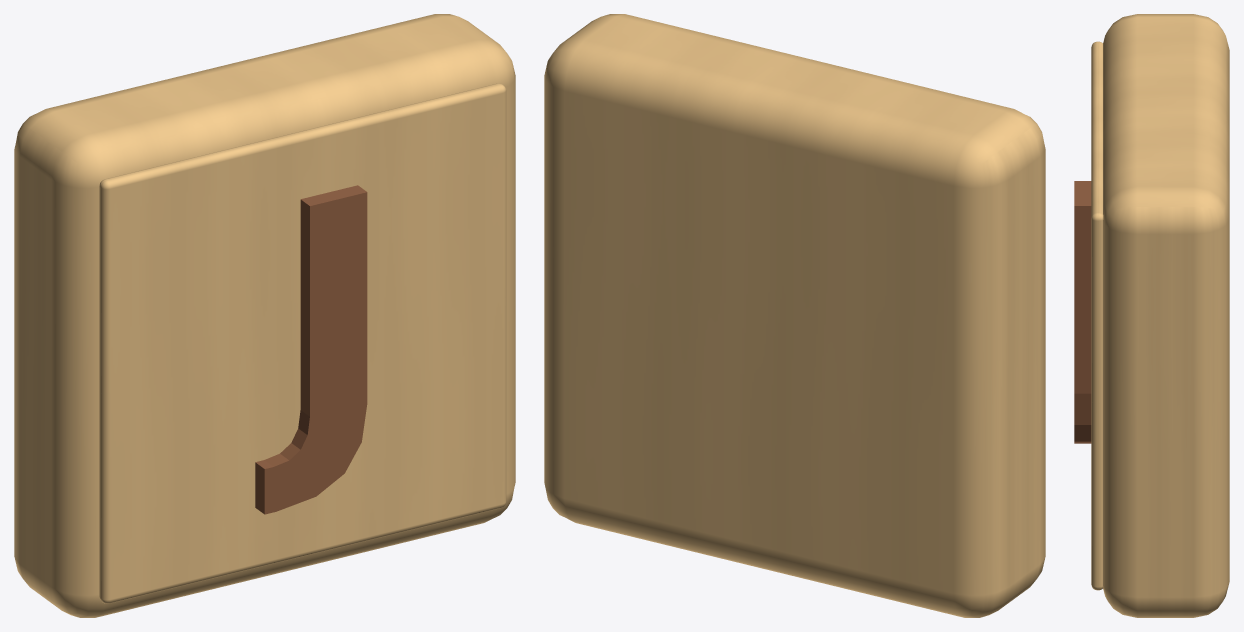
3 renders of one model, left to right at view 1: azimuth 30°, elevation 25°; view 2: azimuth 150°, elevation 25°; view 3: azimuth 270°, elevation 25°, orthographic. The views are drawn at different scales.
Parts seen in each view (by area): view 1: Tile_J; view 2: Tile_J; view 3: Tile_J.
Part boxes in pixels (x1=…): Tile_J: x1=14, y1=14, x2=515, y2=617; Tile_J: x1=544, y1=14, x2=1045, y2=617; Tile_J: x1=1074, y1=14, x2=1229, y2=617.
Bounding box in the file's own units: 0.21 × 0.21 × 0.069.
2 materials, 1 textured.
